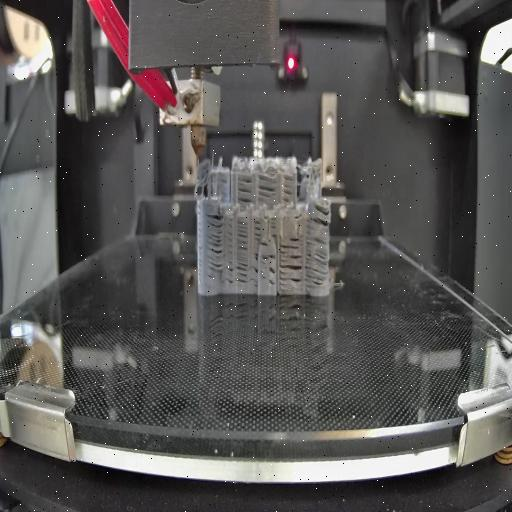cracks: (304, 236, 328, 288), (206, 210, 224, 270), (280, 254, 302, 294), (257, 174, 277, 204), (308, 202, 331, 228), (226, 259, 248, 285), (280, 174, 296, 204), (236, 176, 252, 204), (236, 220, 248, 252), (248, 252, 258, 290), (280, 235, 298, 250), (266, 266, 276, 288), (260, 252, 274, 263), (254, 220, 260, 244), (270, 214, 276, 236), (260, 239, 270, 247)
